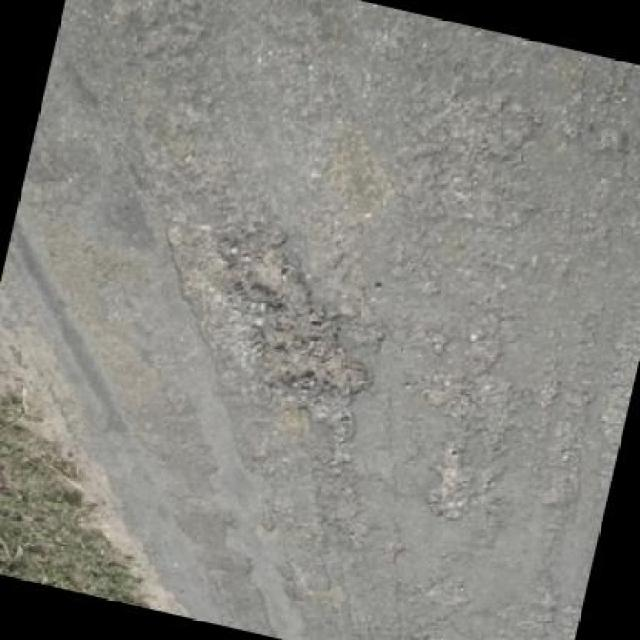pothole: (194, 223, 403, 412), (419, 447, 483, 528)
